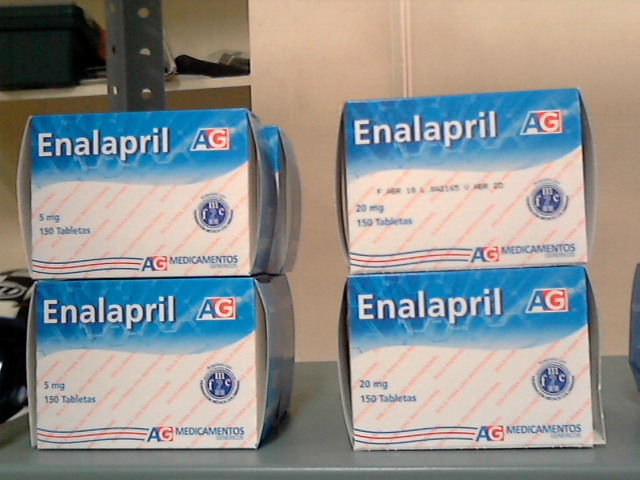AG: (347, 275, 591, 446), (347, 96, 587, 266), (37, 281, 257, 449), (32, 116, 252, 275)
